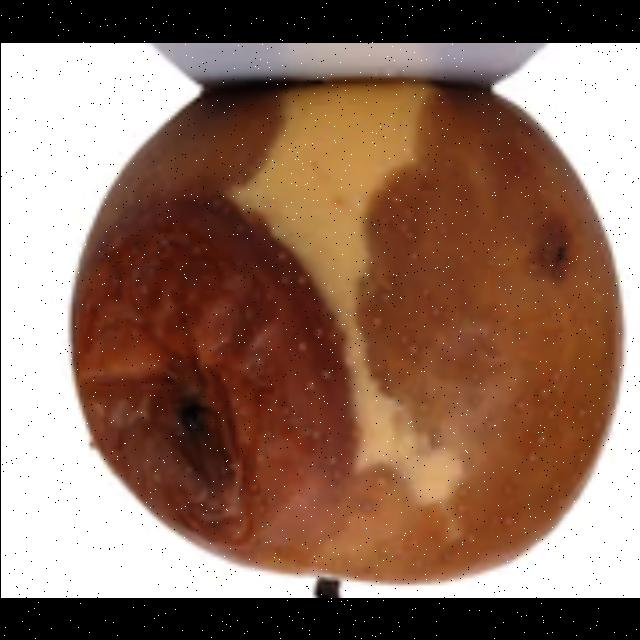Apel Tidak Segar: (60, 48, 640, 598)
